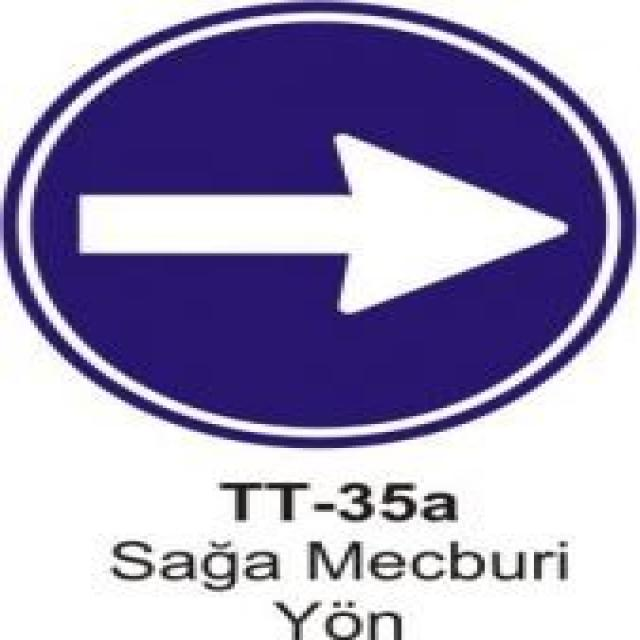SensObligatoire: (4, 3, 640, 453)
